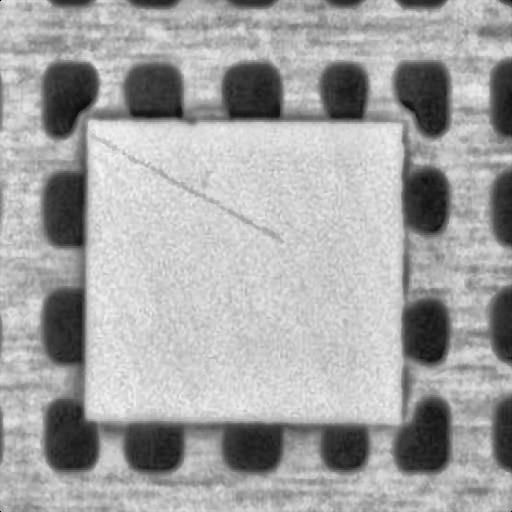DIE_CRACK: (118, 100, 374, 180)
